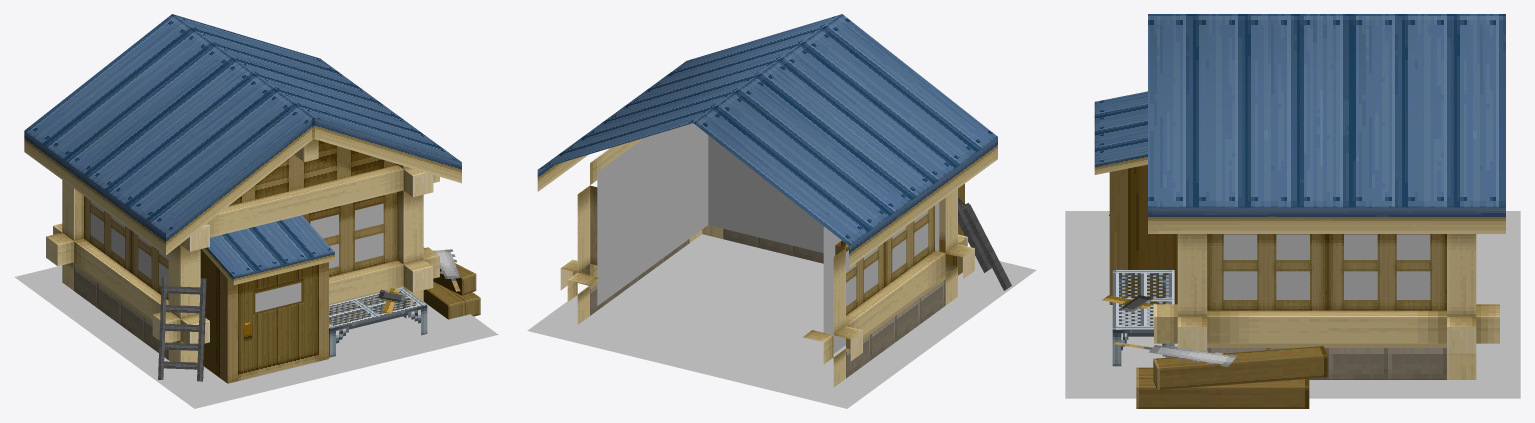
File: BasicArtistHouse.fbx
3 renders of one model, left to right at view 1: azimuth 30°, elevation 25°; view 2: azimuth 150°, elevation 25°; view 3: azimuth 270°, elevation 25°, orthographic. The views are drawn at different scales.
Parts seen in each view (by area): view 1: Basic Artisan Home; view 2: Basic Artisan Home; view 3: Basic Artisan Home.
Part boxes in pixels (x1,y1,x2,y2): Basic Artisan Home: (14,14,498,408); Basic Artisan Home: (527,14,1036,408); Basic Artisan Home: (1065,14,1520,408).
Bounding box in the file's own units: 1632 × 1100 × 1540.
